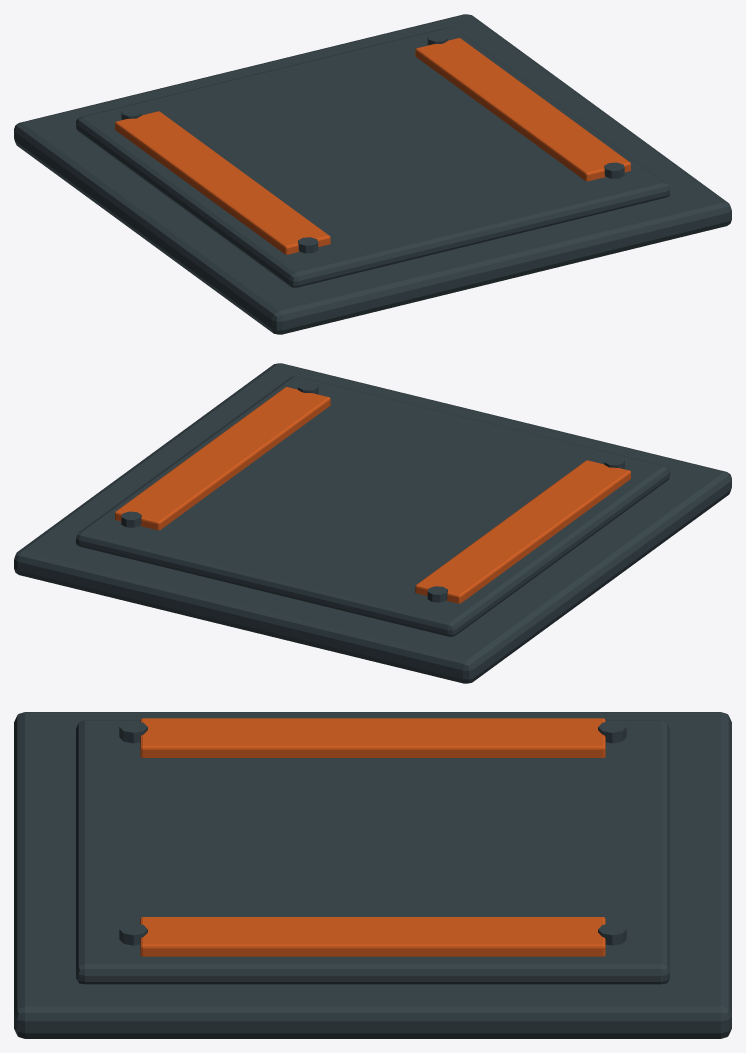
Rendered from dz_floor_hatch.glb.
The picture shows the model from 3 angles, top to bottom: view 1: azimuth 30°, elevation 25°; view 2: azimuth 150°, elevation 25°; view 3: azimuth 270°, elevation 25°; orthographic projection. The views are drawn at different scales.
Visible parts, largest first — view 1: HatchPanel, HatchFrame, HatchHazard_-1.0, HatchHazard_1.0; view 2: HatchPanel, HatchFrame, HatchHazard_-1.0, HatchHazard_1.0; view 3: HatchPanel, HatchFrame, HatchHazard_-1.0, HatchHazard_1.0.
Boxes of the visible parts, left/top/right/bottom form: HatchPanel: left=76, top=27, right=669, bottom=287; HatchFrame: left=14, top=14, right=731, bottom=334; HatchHazard_-1.0: left=115, top=111, right=330, bottom=254; HatchHazard_1.0: left=415, top=38, right=630, bottom=181; HatchPanel: left=76, top=376, right=669, bottom=636; HatchFrame: left=14, top=363, right=731, bottom=683; HatchHazard_-1.0: left=415, top=460, right=630, bottom=603; HatchHazard_1.0: left=115, top=387, right=330, bottom=530; HatchPanel: left=76, top=720, right=669, bottom=984; HatchFrame: left=14, top=712, right=731, bottom=1038; HatchHazard_-1.0: left=140, top=718, right=605, bottom=757; HatchHazard_1.0: left=140, top=917, right=605, bottom=956.
Bounding box in the file's own units: 1.62 × 0.158 × 1.62.
